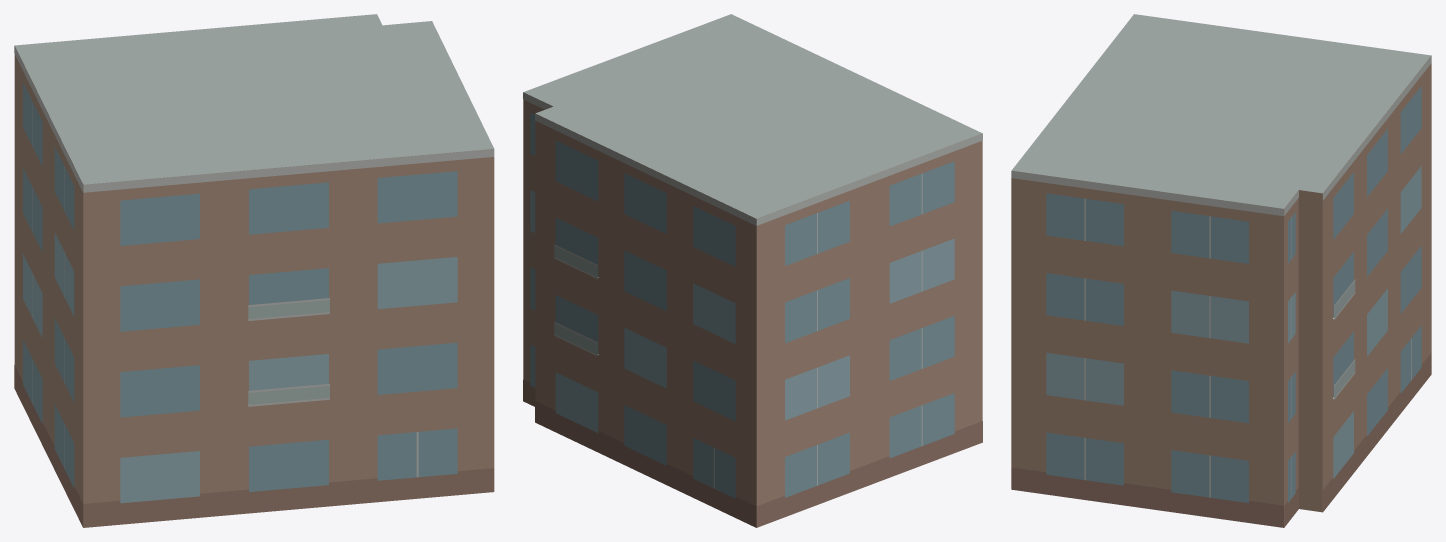
The model's file is survey-upis-32867920.glb.
3 views of the same model, side by side, from view 1: azimuth 30°, elevation 25°; view 2: azimuth 150°, elevation 25°; view 3: azimuth 270°, elevation 25° (orthographic). The views are drawn at different scales.
Visible parts, largest first — view 1: survey-upis-32867920.tmp; view 2: survey-upis-32867920.tmp; view 3: survey-upis-32867920.tmp.
Boxes of the visible parts, x1,y1,x2,y2 form: survey-upis-32867920.tmp: (14, 14, 494, 527); survey-upis-32867920.tmp: (523, 14, 982, 527); survey-upis-32867920.tmp: (1011, 14, 1431, 527).
Size of the model in its own units: 13.7 by 10.45 by 12.48.
